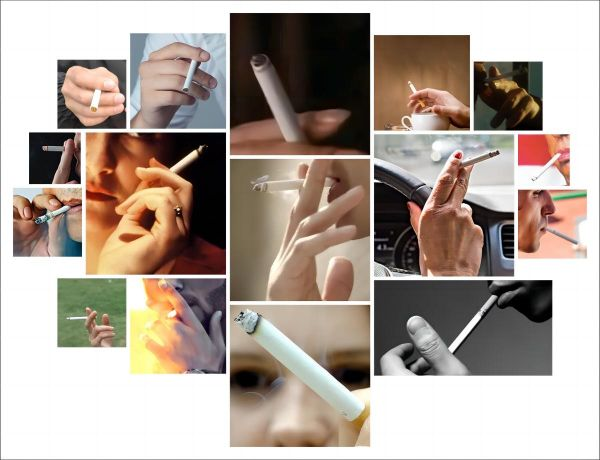smoke: (235, 306, 365, 423), (250, 52, 312, 146), (436, 290, 501, 369), (448, 291, 500, 360), (251, 177, 337, 196), (167, 143, 209, 175), (475, 66, 526, 90), (533, 150, 566, 184), (543, 225, 584, 251), (458, 148, 504, 170), (180, 56, 206, 92), (37, 203, 77, 226), (161, 302, 185, 327), (407, 79, 427, 108), (90, 88, 104, 113), (66, 315, 102, 323)
